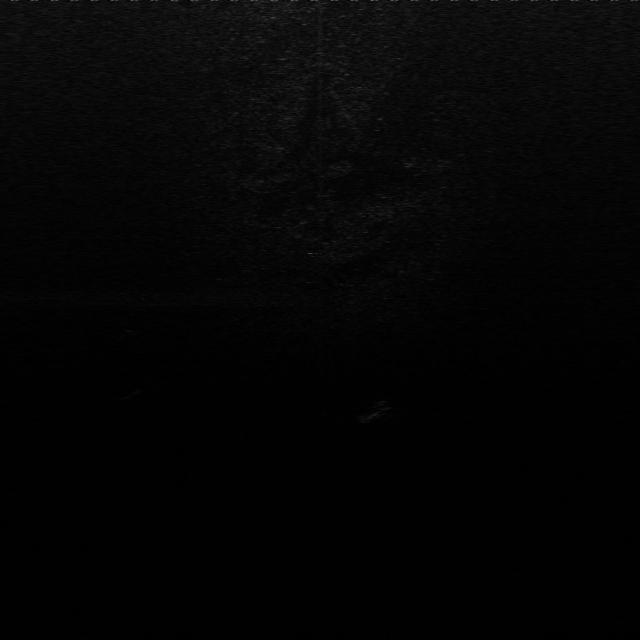tyre: (356, 395, 396, 429)
